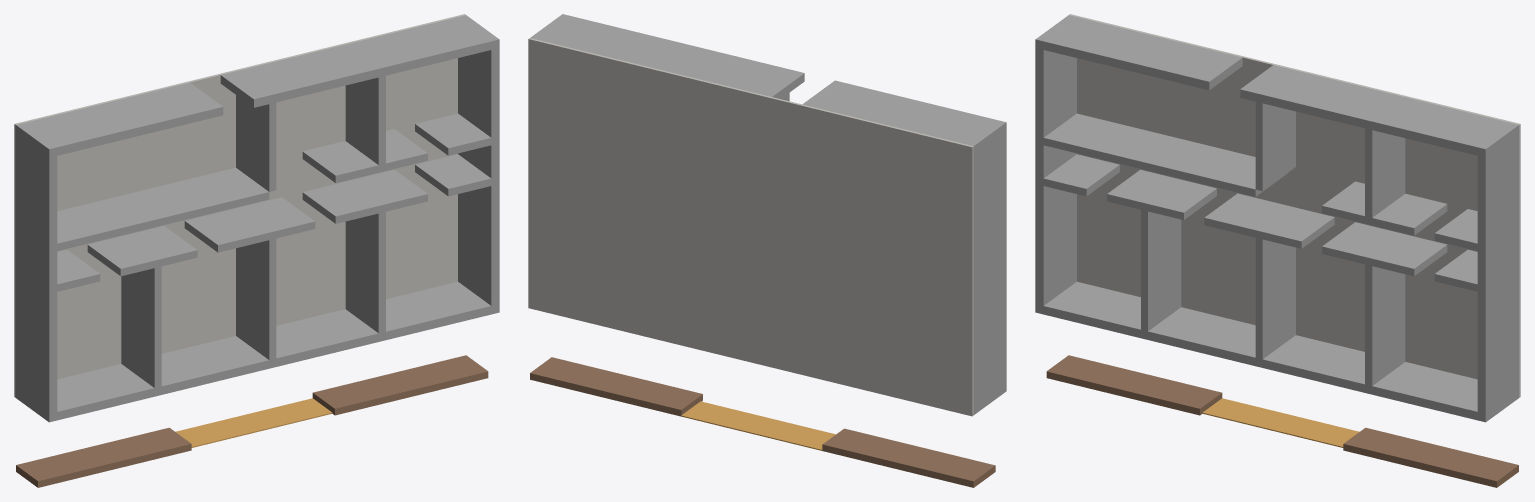
File: smart_house.glb
3 renders of one model, left to right at view 1: azimuth 30°, elevation 25°; view 2: azimuth 150°, elevation 25°; view 3: azimuth 330°, elevation 25°, orthographic.
Visible parts, largest first — view 1: world; view 2: world; view 3: world.
Part boxes in pixels (x1,y1,x2,y2): world: (14, 14, 499, 487); world: (528, 14, 1006, 487); world: (1035, 14, 1520, 487).
Size of the model in its own units: 21.12 by 15.54 by 2.82.
